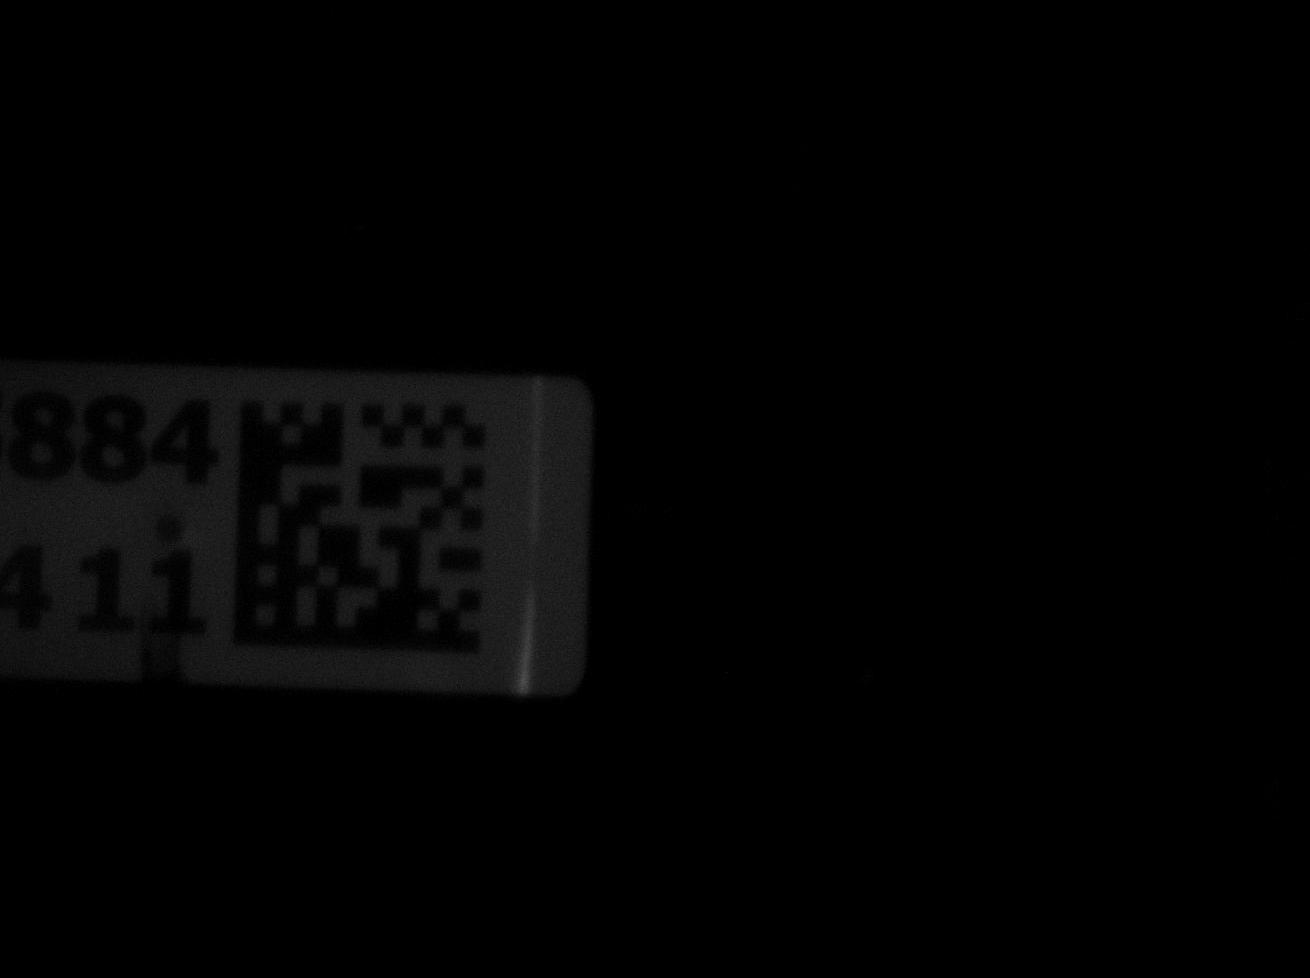data matrix: (219, 376, 512, 671)
